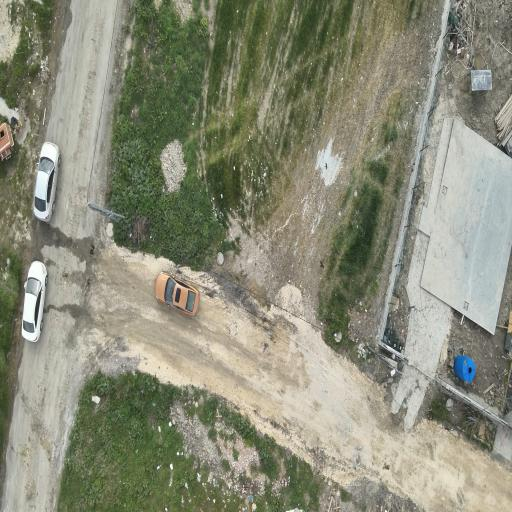car: (33, 142, 60, 222), (21, 261, 47, 341), (154, 272, 198, 315)
